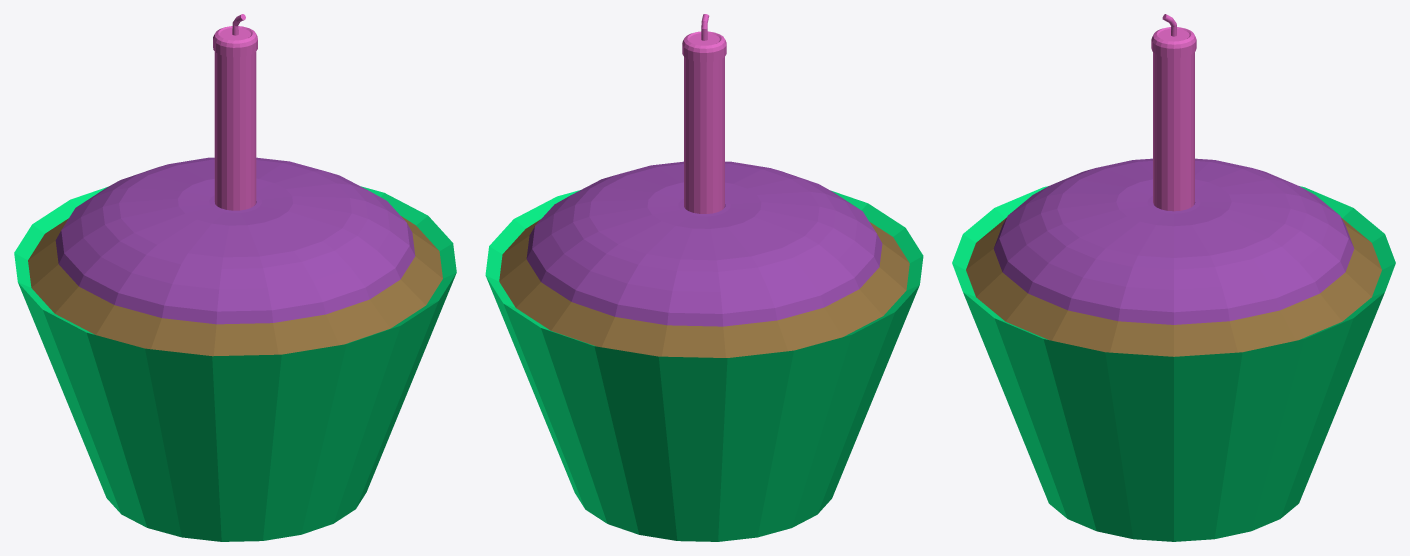
The model's file is Cupcake_Texture.fbx.
3 renders of one model, left to right at view 1: azimuth 30°, elevation 25°; view 2: azimuth 150°, elevation 25°; view 3: azimuth 270°, elevation 25°, orthographic.
Visible parts, largest first — view 1: pCylinder1; view 2: pCylinder1; view 3: pCylinder1.
Boxes of the visible parts, box(x1,y1,x2,y2) form: pCylinder1: box(14, 14, 456, 541); pCylinder1: box(485, 14, 923, 541); pCylinder1: box(952, 14, 1395, 541).
Size of the model in its own units: 21.14 by 24.87 by 21.14.
